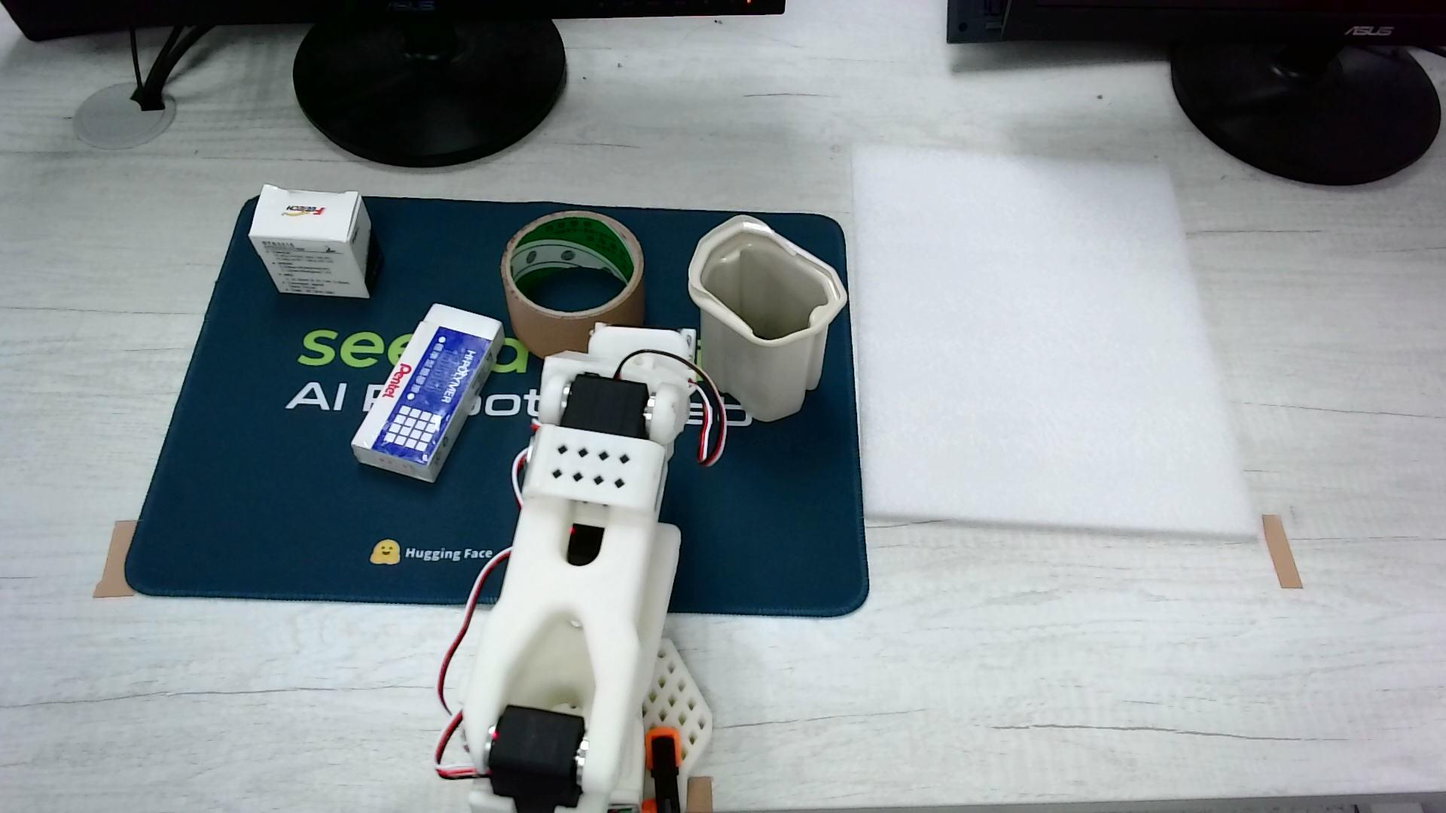eraser: (249, 184, 380, 297)
